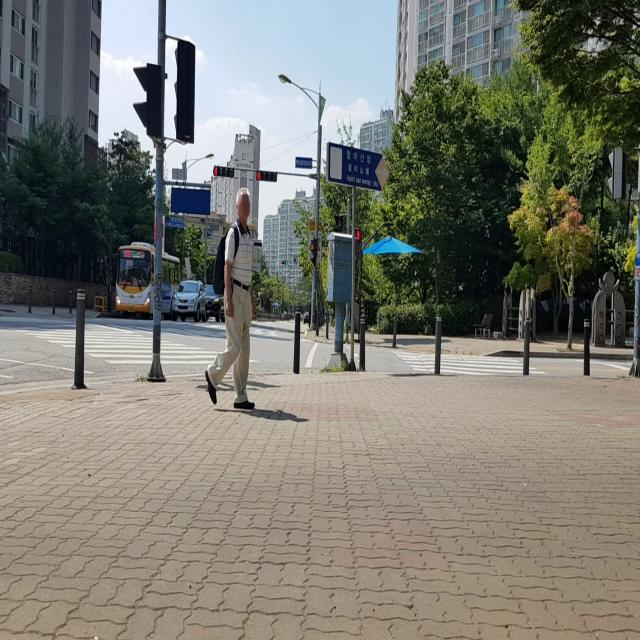빨간불: (354, 224, 362, 257)
횡단보도: (0, 313, 262, 368), (390, 351, 548, 376)
